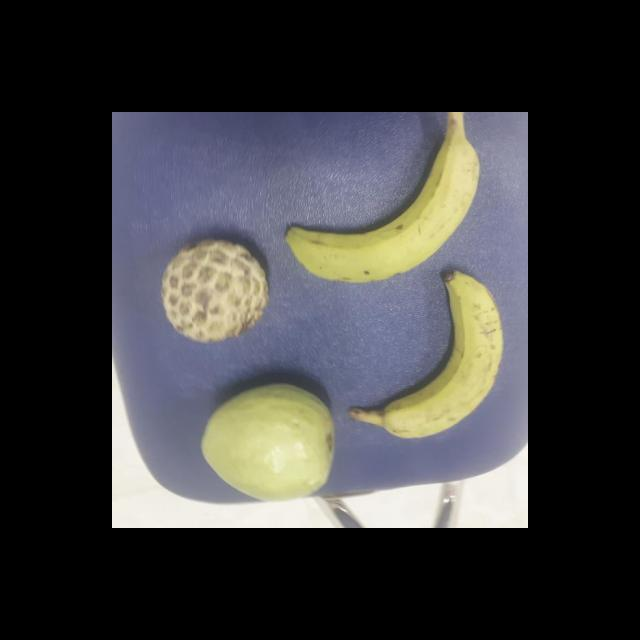Sakya fruit: (157, 238, 270, 341)
banana: (273, 121, 471, 280), (348, 273, 501, 437)
guava: (200, 380, 336, 504)
